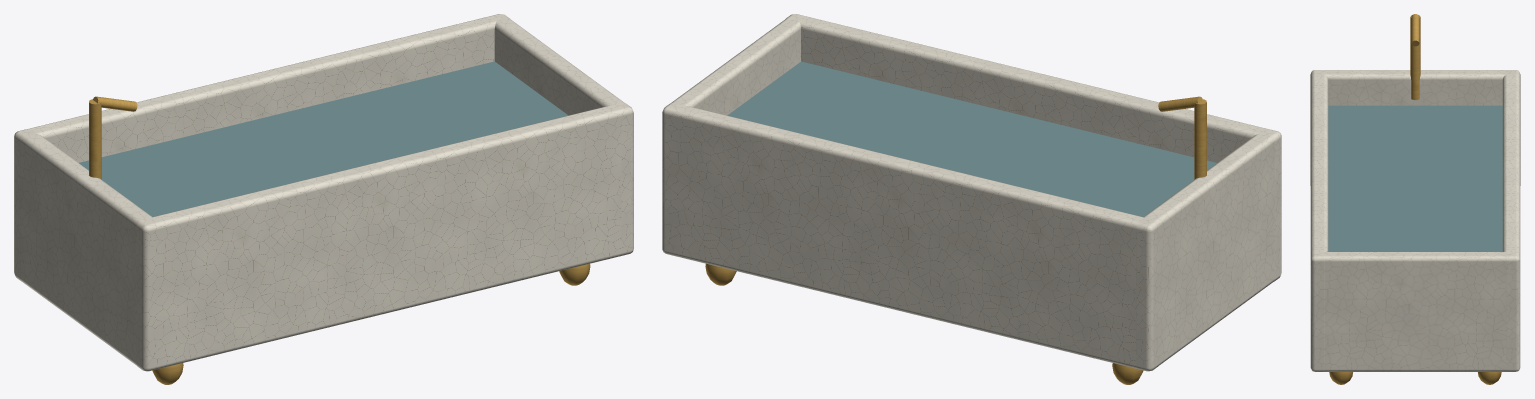
File: bathtub.glb
3 renders of one model, left to right at view 1: azimuth 30°, elevation 25°; view 2: azimuth 150°, elevation 25°; view 3: azimuth 270°, elevation 25°, orthographic. The views are drawn at different scales.
Parts seen in each view (by area): view 1: bathtub; view 2: bathtub; view 3: bathtub.
Part boxes in pixels (x1,y1,x2,y2): bathtub: (14,14,633,384); bathtub: (662,14,1281,384); bathtub: (1310,14,1520,384).
Size of the model in its own units: 1.75 by 0.8794 by 0.8208.
3 materials, 2 textured.
